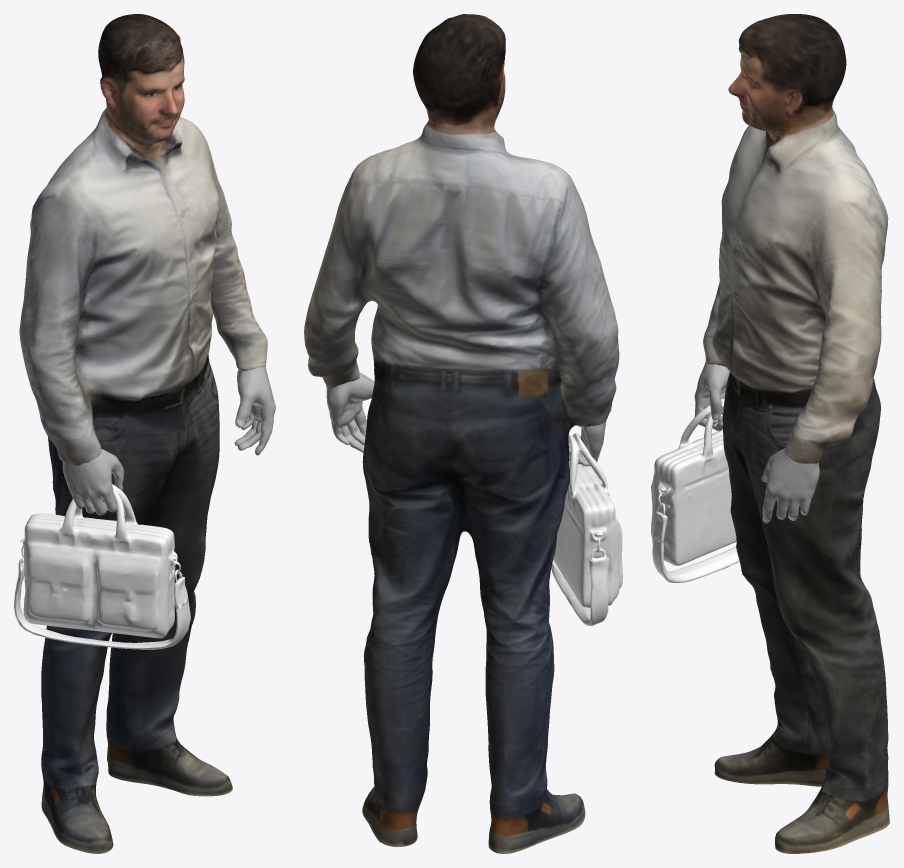
Rendered from baked_model_pbr.glb.
3 views of the same model, side by side, from view 1: azimuth 30°, elevation 25°; view 2: azimuth 150°, elevation 25°; view 3: azimuth 270°, elevation 25° (orthographic).
Parts seen in each view (by area): view 1: Wenceslavus; view 2: Wenceslavus; view 3: Wenceslavus.
Boxes of the visible parts, x1=… form: Wenceslavus: x1=14, y1=14, x2=275, y2=853; Wenceslavus: x1=304, y1=14, x2=622, y2=853; Wenceslavus: x1=651, y1=14, x2=889, y2=853.
Size of the model in its own units: 0.6405 by 1.8 by 0.491.
3 materials, 3 textured.
